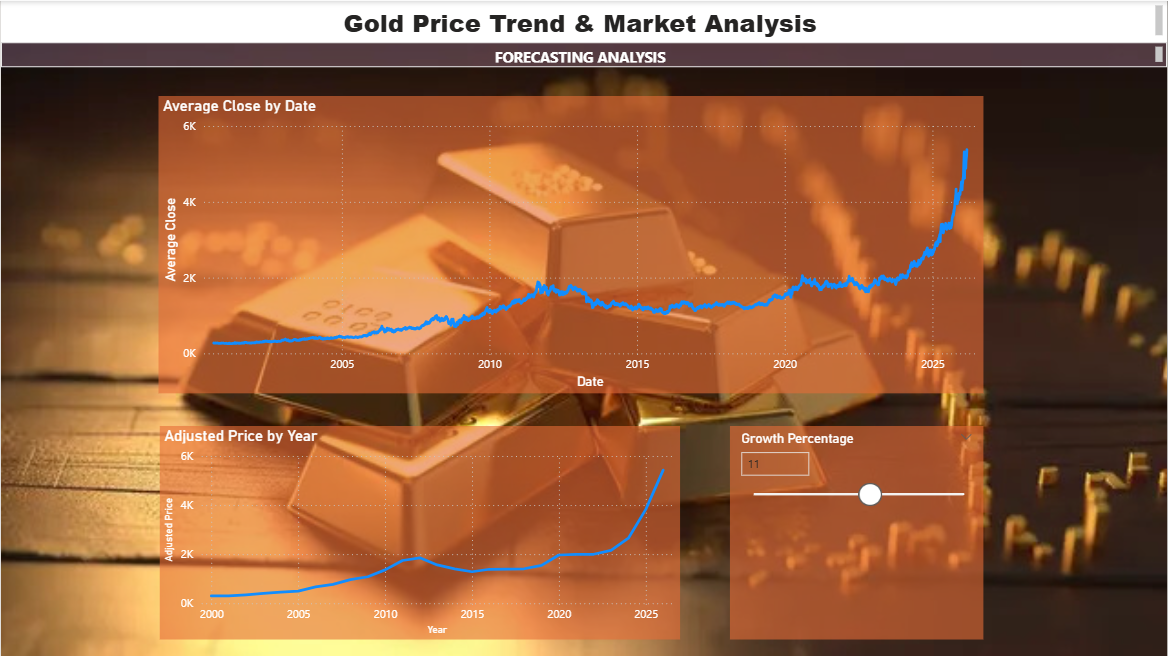

The dashboard page shown, as its layout file describes it:
{"tool":"powerbi","page":{"name":"Forecasting Analysis","canvas":[1280,720],"ordinal":2},"visuals":[{"type":"lineChart","fields":{"Y":["Date_Table.Average Close"],"Category":["Date_Table.Date"]},"box":[172.9,104.3,905.7,326.6],"z":0},{"type":"slicer","fields":{"Values":["Growth Percentage.Growth Percentage"]},"box":[800,466.6,278.6,234.6],"z":1000},{"type":"lineChart","fields":{"Category":["Date_Table.Date.Variation.Date Hierarchy.Year","Date_Table.Date.Variation.Date Hierarchy.Quarter","Date_Table.Date.Variation.Date Hierarchy.Month","Date_Table.Date.Variation.Date Hierarchy.Day"],"Y":["Date_Table.Adjusted Price"]},"box":[174.3,466.6,570.8,234.6],"z":2000},{"type":"textbox","box":[0,45.3,1280.3,27.4],"z":3000},{"type":"textbox","box":[0,0,1280.3,45.3],"z":4000}]}

Visuals, with their boxes in screenshot pixels (x1, y1, x2, y2), scaled from the page's 1280x720 canvas onto the 1168x656 screenshot:
lineChart - Date_Table.Average Close x Date_Table.Date: l=158, t=95, r=984, b=393
slicer - Growth Percentage.Growth Percentage: l=730, t=425, r=984, b=639
lineChart - Date_Table.Date.Variation.Date Hierarchy.Year x Date_Table.Date.Variation.Date Hierarchy.Quarter: l=159, t=425, r=680, b=639
textbox: l=0, t=41, r=1167, b=66
textbox: l=0, t=0, r=1167, b=41
